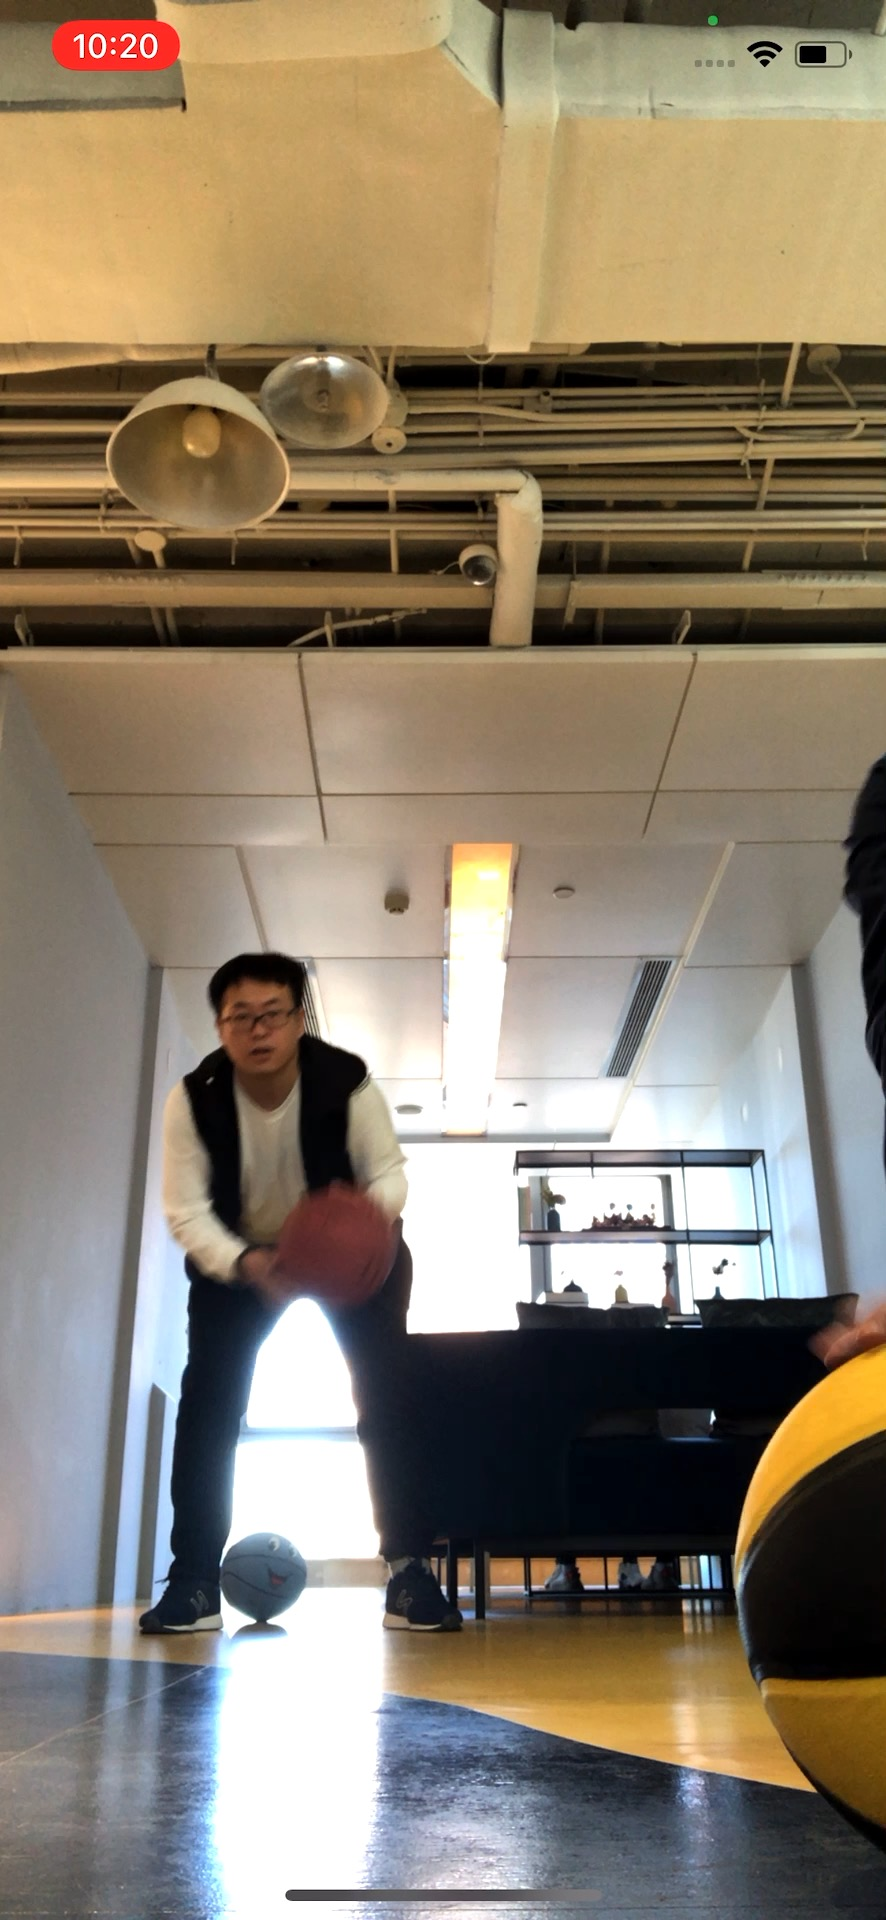ball: (737, 1343, 886, 1843), (278, 1188, 401, 1302), (218, 1536, 302, 1622)
